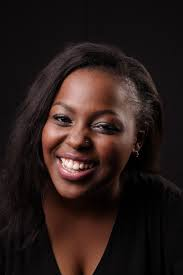black_female: (25, 43, 172, 214)
